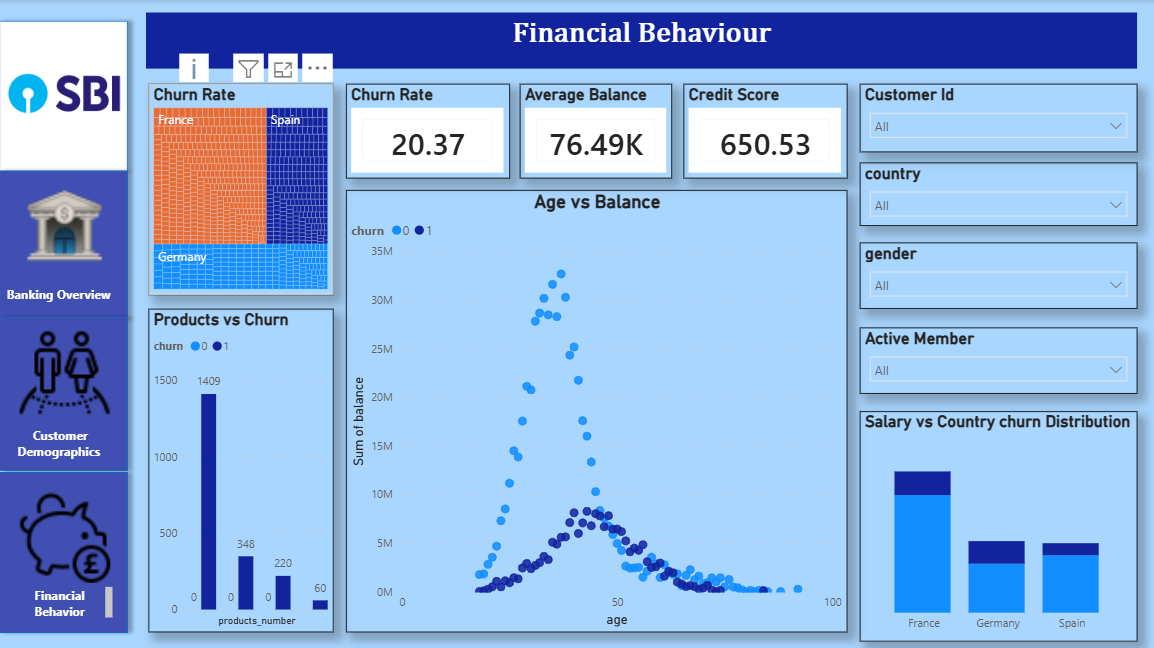

Layout of this report page (visuals, bound fields, positions):
{"tool":"powerbi","page":{"name":"Financial Behaviour","canvas":[1280,720],"ordinal":2},"visuals":[{"type":"shape","box":[0,13.7,159.2,183.9],"z":0},{"type":"shape","box":[0,178.4,159.2,181.1],"z":1000},{"type":"shape","box":[0,338.9,159.2,186.6],"z":2000},{"type":"shape","box":[0,509.1,159.2,194.9],"z":3000},{"type":"image","box":[12.3,27.4,135.8,150.9],"z":4000},{"type":"cardVisual","title":"Churn Rate","fields":{"Data":["cleaned_churn_data.churn rate"]},"box":[389.7,91.9,179.8,104.3],"z":6000},{"type":"cardVisual","title":"Average Balance","fields":{"Data":["Avg(cleaned_churn_data.balance)"]},"box":[580.4,91.9,167.4,104.3],"z":7000},{"type":"slicer","title":"Customer Id","fields":{"Values":["cleaned_churn_data.customer_id"]},"box":[953.7,91.9,304.6,75.5],"z":8000},{"type":"scatterChart","title":"Age vs Balance","fields":{"X":["cleaned_churn_data.age"],"Y":["Sum(cleaned_churn_data.balance)"],"Series":["cleaned_churn_data.churn"]},"box":[389.7,208.6,550.3,485.8],"z":10000},{"type":"clusteredColumnChart","title":"Products vs Churn","fields":{"Category":["cleaned_churn_data.products_number"],"Y":["Sum(cleaned_churn_data.churn)"],"Series":["cleaned_churn_data.churn"]},"box":[172.9,338.9,203.1,355.4],"z":11000},{"type":"cardVisual","title":"Credit Score","fields":{"Data":["Avg(cleaned_churn_data.credit_score)"]},"box":[760.2,91.9,179.8,104.3],"z":12000},{"type":"columnChart","title":"Salary vs Country churn Distribution","fields":{"Category":["cleaned_churn_data.country"],"Series":["cleaned_churn_data.churn"],"Y":["Sum(cleaned_churn_data.estimated_salary)"]},"box":[953.7,451.5,304.6,252.5],"z":13000},{"type":"image","box":[22.2,196.7,117.8,103.3],"z":14000},{"type":"image","box":[22.2,360,117.8,103.3],"z":15000},{"type":"image","box":[21.1,536.7,117.8,103.3],"z":16000},{"type":"textbox","box":[12.2,308.9,127.8,30],"z":17000},{"type":"textbox","box":[12.2,463.3,127.8,45.6],"z":18000},{"type":"textbox","box":[21.1,640,117.8,44.4],"z":19000},{"type":"slicer","title":"country","fields":{"Values":["cleaned_churn_data.country"]},"box":[953.7,178.4,304.6,70],"z":20000},{"type":"slicer","title":"gender","fields":{"Values":["cleaned_churn_data.gender"]},"box":[953.7,266.2,304.6,72.7],"z":21000},{"type":"slicer","title":"Active Member","fields":{"Values":["cleaned_churn_data.active_member"]},"box":[953.7,359.5,304.6,72.7],"z":22000},{"type":"textbox","box":[170.2,13.7,1088.2,61.7],"z":23000},{"type":"treemap","title":"Country-wise Churn Rate","fields":{"Values":["Sum(cleaned_churn_data.age)"],"Group":["cleaned_churn_data.country"],"Details":["cleaned_churn_data.estimated_salary"]},"box":[172.9,91.9,203.1,231.9],"z":23001}]}

Visuals, with their boxes on the page's 1280x720 design canvas (x1, y1, x2, y2). These are canvas units, not pixel positions in the 1154x648 screenshot, which may show the page scaled, cropped or inside an application window:
shape: pyautogui.locateOnScreen(0, 14, 159, 198)
shape: pyautogui.locateOnScreen(0, 178, 159, 360)
shape: pyautogui.locateOnScreen(0, 339, 159, 526)
shape: pyautogui.locateOnScreen(0, 509, 159, 704)
image: pyautogui.locateOnScreen(12, 27, 148, 178)
"Churn Rate" cardVisual: pyautogui.locateOnScreen(390, 92, 570, 196)
"Average Balance" cardVisual: pyautogui.locateOnScreen(580, 92, 748, 196)
"Customer Id" slicer: pyautogui.locateOnScreen(954, 92, 1258, 167)
"Age vs Balance" scatterChart: pyautogui.locateOnScreen(390, 209, 940, 694)
"Products vs Churn" clusteredColumnChart: pyautogui.locateOnScreen(173, 339, 376, 694)
"Credit Score" cardVisual: pyautogui.locateOnScreen(760, 92, 940, 196)
"Salary vs Country churn Distribution" columnChart: pyautogui.locateOnScreen(954, 452, 1258, 704)
image: pyautogui.locateOnScreen(22, 197, 140, 300)
image: pyautogui.locateOnScreen(22, 360, 140, 463)
image: pyautogui.locateOnScreen(21, 537, 139, 640)
textbox: pyautogui.locateOnScreen(12, 309, 140, 339)
textbox: pyautogui.locateOnScreen(12, 463, 140, 509)
textbox: pyautogui.locateOnScreen(21, 640, 139, 684)
"country" slicer: pyautogui.locateOnScreen(954, 178, 1258, 248)
"gender" slicer: pyautogui.locateOnScreen(954, 266, 1258, 339)
"Active Member" slicer: pyautogui.locateOnScreen(954, 360, 1258, 432)
textbox: pyautogui.locateOnScreen(170, 14, 1258, 75)
"Country-wise Churn Rate" treemap: pyautogui.locateOnScreen(173, 92, 376, 324)
